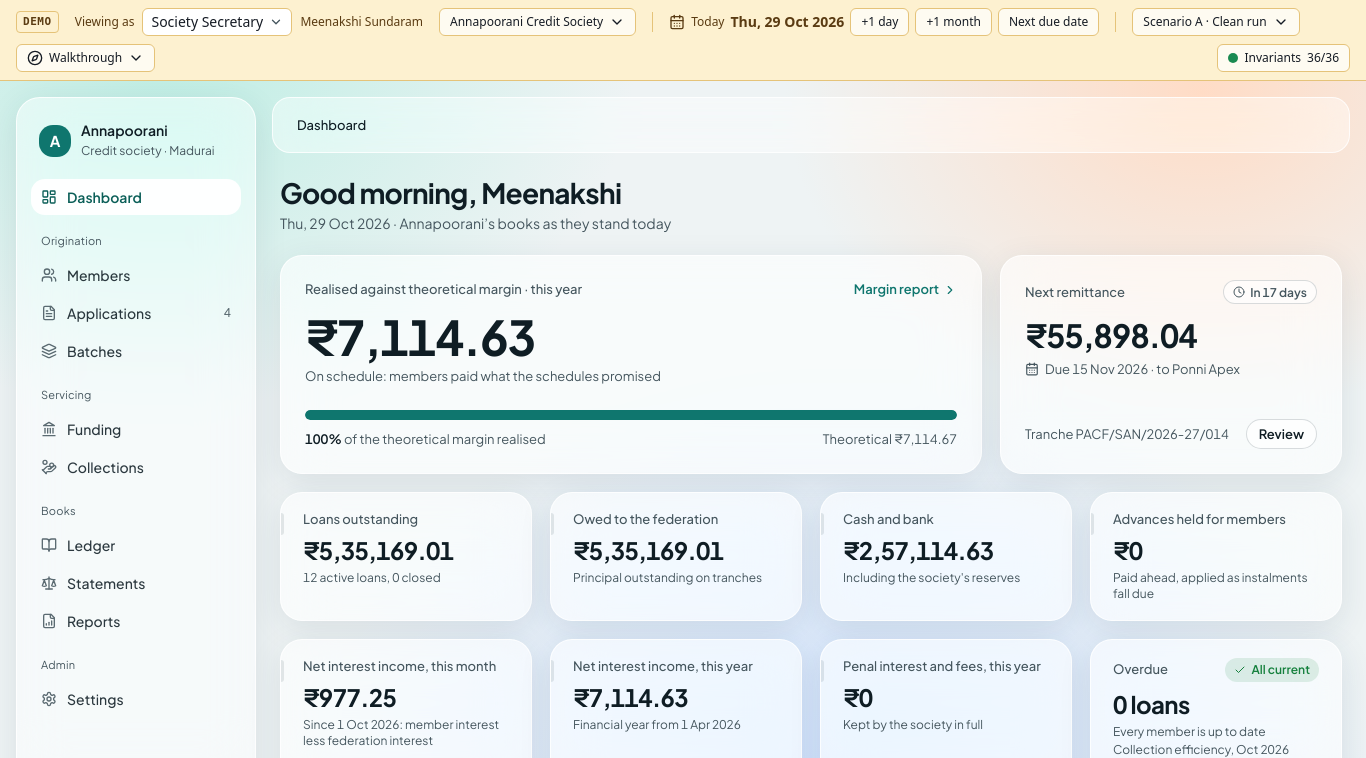
it: the app shell › shows a green invariants indicator, and the twelve checks for each society
Click the button with aria-label "Invariants: 36 of 36 passing" at (1284, 58), box [1218, 44, 1350, 72]
(page scrolled)
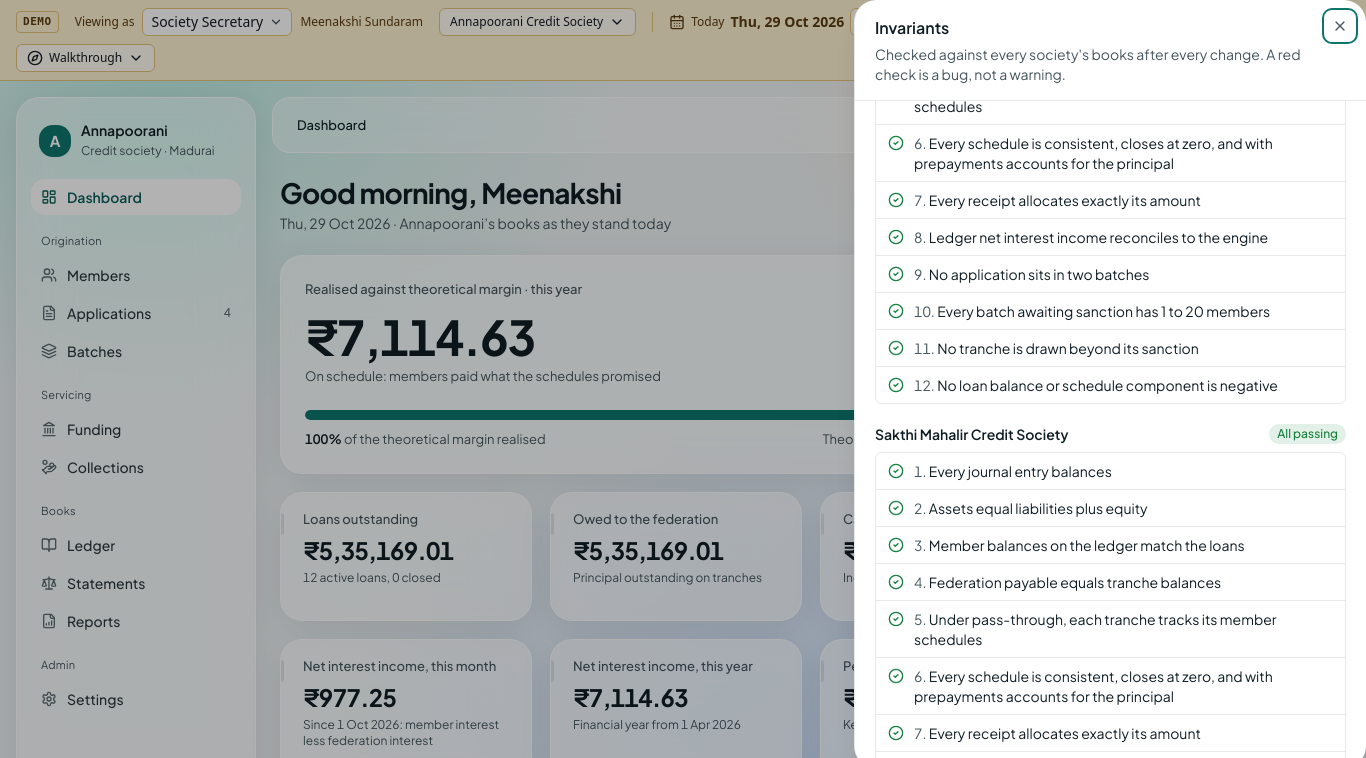
Now the text "All passing" is shown, box [1269, 424, 1346, 444]
